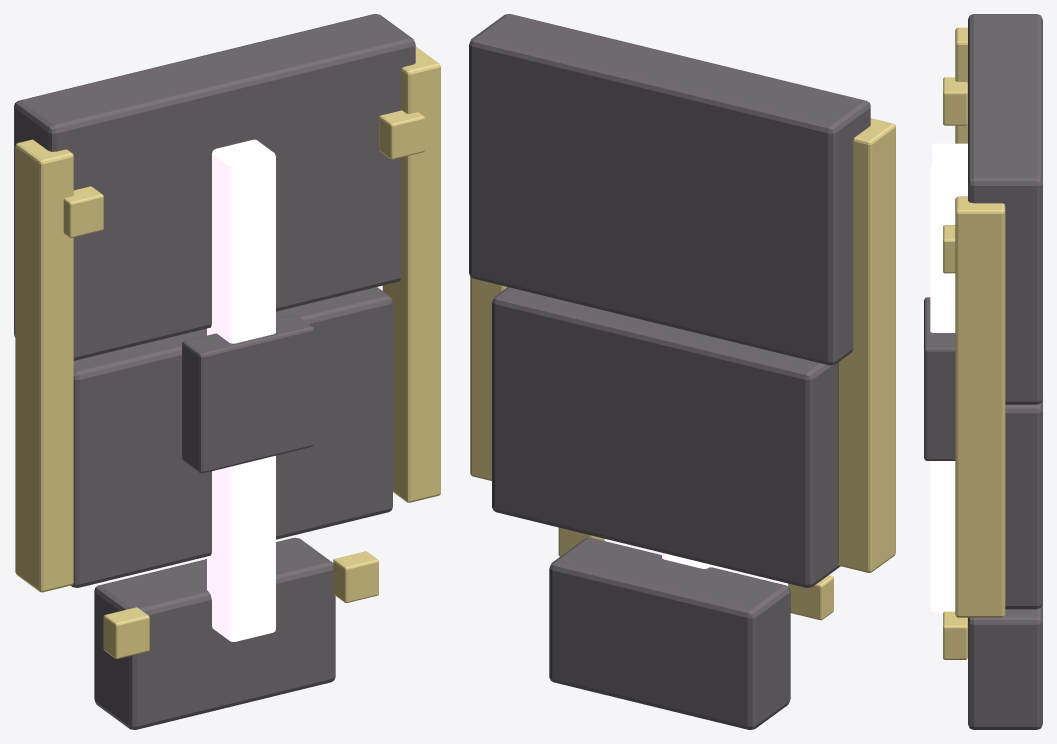
The model's file is shield_cinderbloom.glb.
3 views of the same model, side by side, from view 1: azimuth 30°, elevation 25°; view 2: azimuth 150°, elevation 25°; view 3: azimuth 270°, elevation 25° (orthographic). The views are drawn at different scales.
Parts seen in each view (by area): view 1: Face_top, Face_mid, Face_point, Trim_L, Ember_line, Trim_R, Rose, Stud_2, Stud_3, Stud_1, Stud_0; view 2: Face_top, Face_mid, Face_point, Trim_L, Trim_R, Stud_2; view 3: Face_top, Trim_R, Ember_line, Face_point, Face_mid, Rose, Stud_0, Stud_3, Trim_L, Stud_1.
Boxes of the visible parts, x1,y1,x2,y2 form: Face_top: [14, 14, 415, 360]; Face_mid: [71, 287, 392, 587]; Face_point: [94, 537, 335, 729]; Trim_L: [15, 139, 73, 592]; Ember_line: [207, 139, 275, 641]; Trim_R: [382, 47, 440, 502]; Rose: [182, 314, 313, 473]; Stud_2: [103, 607, 149, 658]; Stud_3: [333, 551, 378, 602]; Stud_1: [379, 110, 424, 159]; Stud_0: [63, 186, 103, 237]; Face_top: [469, 14, 870, 365]; Face_mid: [492, 287, 840, 587]; Face_point: [549, 537, 790, 729]; Trim_L: [837, 118, 895, 572]; Trim_R: [470, 277, 507, 480]; Stud_2: [788, 575, 833, 620]; Face_top: [968, 14, 1042, 404]; Trim_R: [955, 196, 1005, 617]; Ember_line: [930, 143, 967, 614]; Face_point: [968, 604, 1042, 729]; Face_mid: [1005, 399, 1042, 609]; Rose: [924, 297, 955, 460]; Stud_0: [943, 77, 967, 125]; Stud_3: [943, 611, 967, 659]; Trim_L: [955, 27, 967, 143]; Stud_1: [943, 225, 955, 273].
Bounding box in the file's own units: 0.35 × 0.52 × 0.095.
